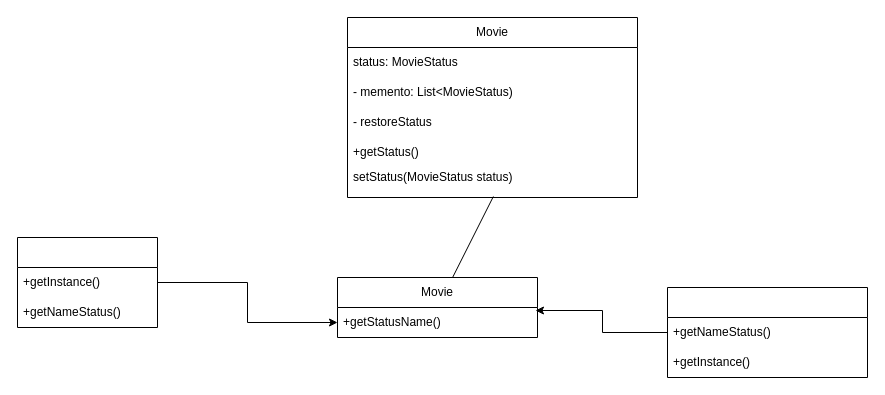
Some shapes in this 885 by 395 pixel diagram are drawn without their labels. Each missing label, with the box of its shape:
MovieStatusOscar: (666, 286, 868, 378)
MovieStatusRelease: (16, 236, 158, 328)
